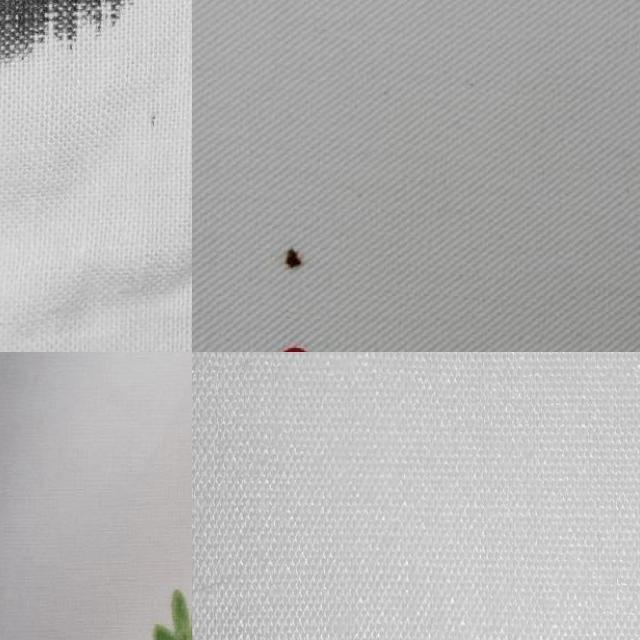Hole: (220, 204, 371, 314)
